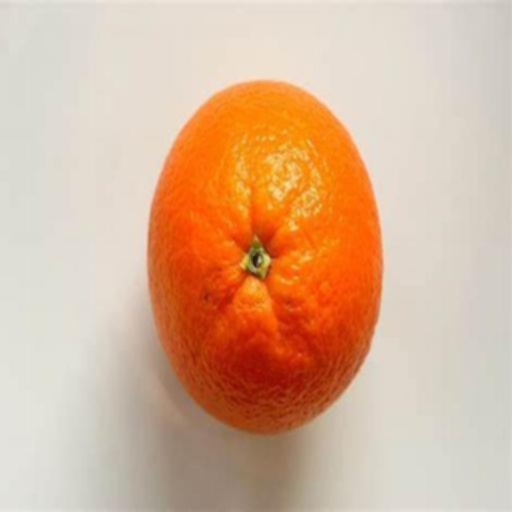fruit: (303, 155, 447, 507)
